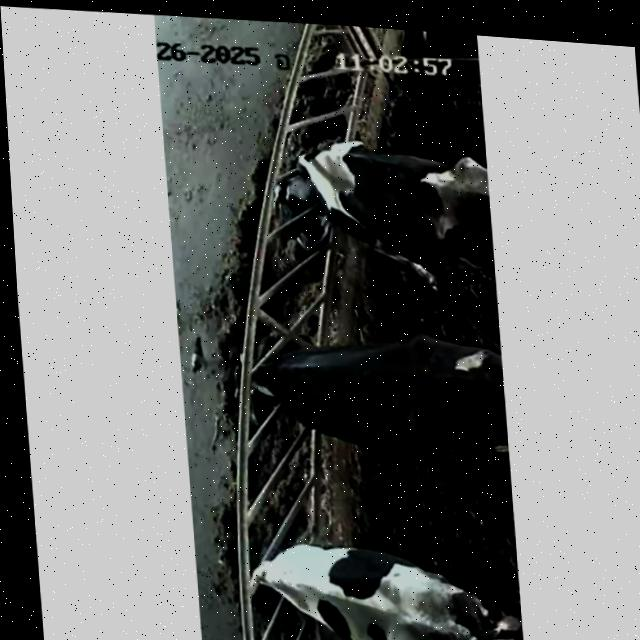eat: (189, 312, 390, 440), (200, 106, 384, 240), (192, 522, 377, 640)
